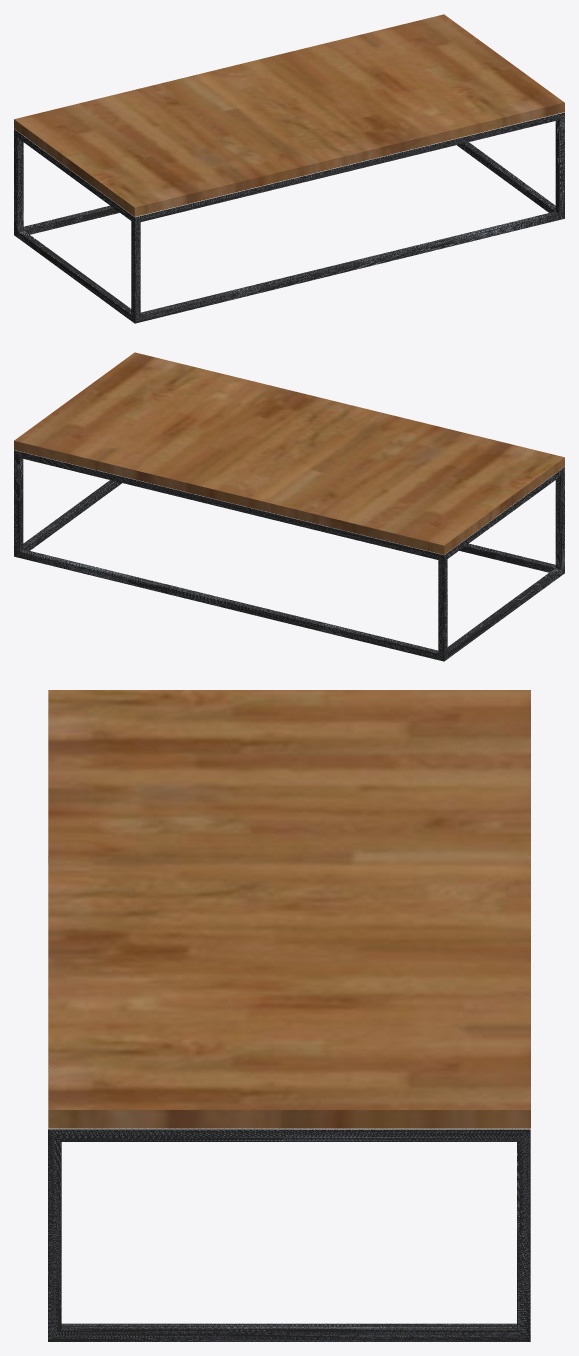
3 views of the same model, one above another, from view 1: azimuth 30°, elevation 25°; view 2: azimuth 150°, elevation 25°; view 3: azimuth 270°, elevation 25° (orthographic). The views are drawn at different scales.
Parts seen in each view (by area): view 1: group_0, SketchUp (×2); view 2: group_0, SketchUp (×2); view 3: group_0, SketchUp (×2).
Boxes of the visible parts, bbox=[...] form: group_0: bbox=[14, 14, 564, 216]; SketchUp (×2): bbox=[14, 112, 564, 323]; group_0: bbox=[14, 352, 564, 554]; SketchUp (×2): bbox=[14, 450, 564, 661]; group_0: bbox=[48, 690, 530, 1128]; SketchUp (×2): bbox=[48, 710, 530, 1341].
Bounding box in the file's own units: 72.01 × 35.02 × 18.55.
4 materials, 1 textured.
